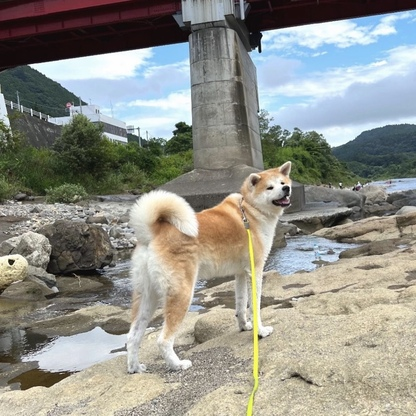akita: (120, 156, 300, 378)
